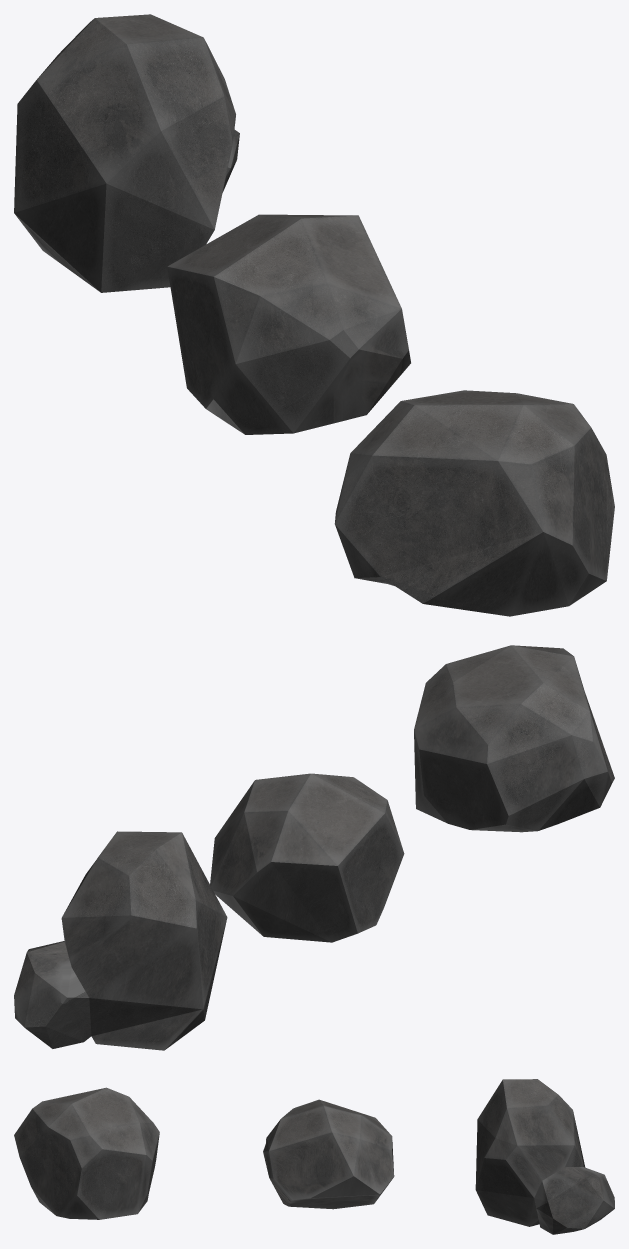
The model's file is Stones.fbx.
3 renders of one model, top to bottom at view 1: azimuth 30°, elevation 25°; view 2: azimuth 150°, elevation 25°; view 3: azimuth 270°, elevation 25°, orthographic. The views are drawn at different scales.
Visible parts, largest first — view 1: stone1, stone3, stone2; view 2: stone3, stone1, stone2; view 3: stone3, stone1, stone2.
Part boxes in pixels (x1=…): stone1: x1=334, y1=390, x2=614, y2=616; stone3: x1=14, y1=14, x2=239, y2=292; stone2: x1=167, y1=214, x2=410, y2=434; stone3: x1=14, y1=831, x2=227, y2=1050; stone1: x1=414, y1=645, x2=614, y2=832; stone2: x1=210, y1=773, x2=404, y2=942; stone3: x1=475, y1=1079, x2=614, y2=1234; stone1: x1=14, y1=1087, x2=159, y2=1219; stone2: x1=263, y1=1099, x2=394, y2=1209.
Bounding box in the file's own units: 102 × 74.89 × 307.
